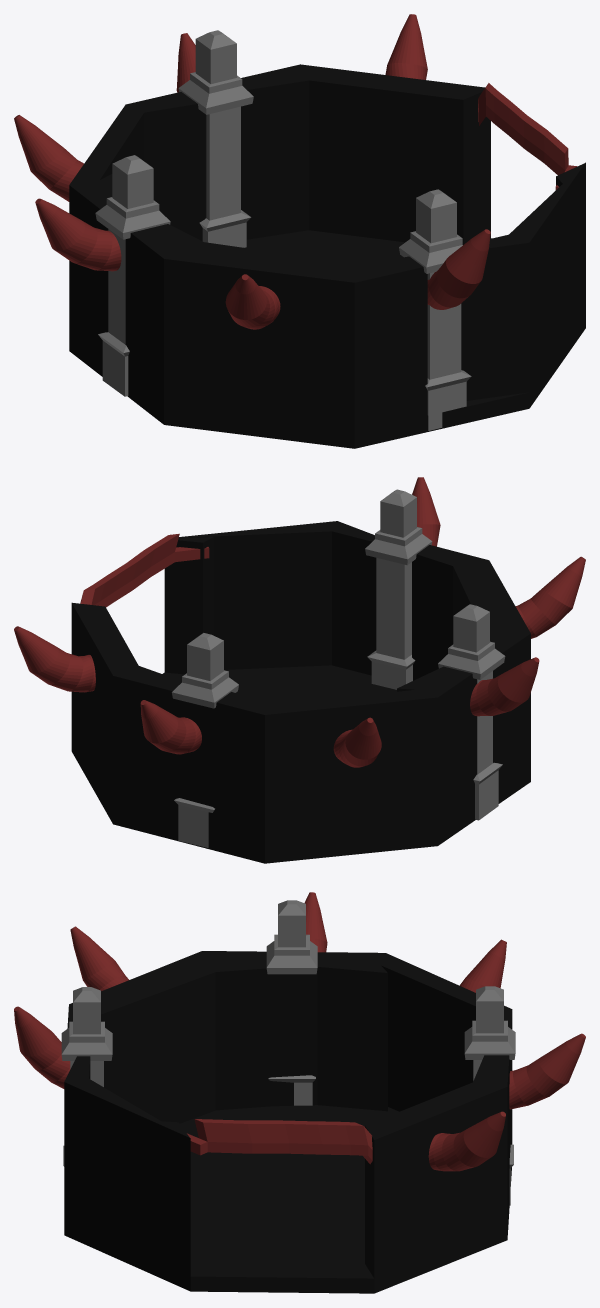
File: boss.fbx
3 renders of one model, top to bottom at view 1: azimuth 30°, elevation 25°; view 2: azimuth 150°, elevation 25°; view 3: azimuth 270°, elevation 25°, orthographic. The views are drawn at different scales.
Parts seen in each view (by area): view 1: Cube.001; view 2: Cube.001; view 3: Cube.001.
Boxes of the visible parts, x1,y1,x2,y2 form: Cube.001: [14, 14, 585, 448]; Cube.001: [14, 477, 585, 863]; Cube.001: [14, 892, 585, 1293].
Bounding box in the file's own units: 754 × 335 × 828.
